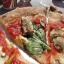pizza: (1, 7, 64, 64)
